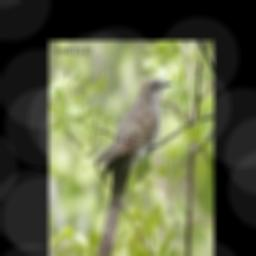Cuckoo: (94, 78, 172, 256)
